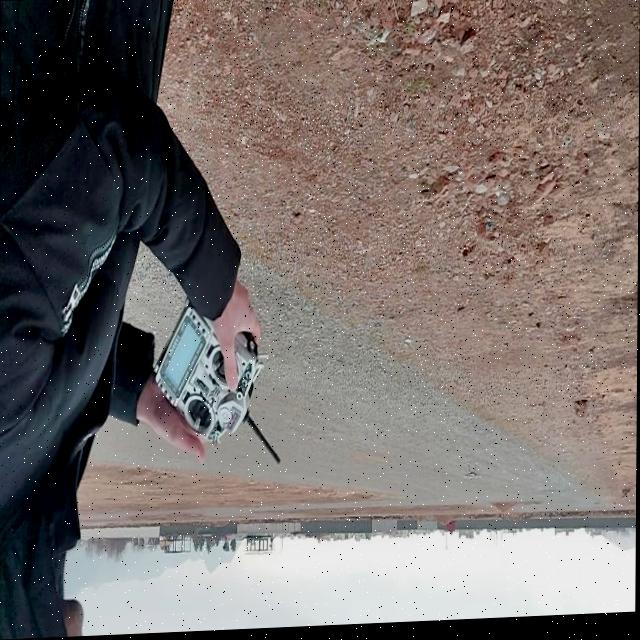drone: (463, 465, 482, 486)
